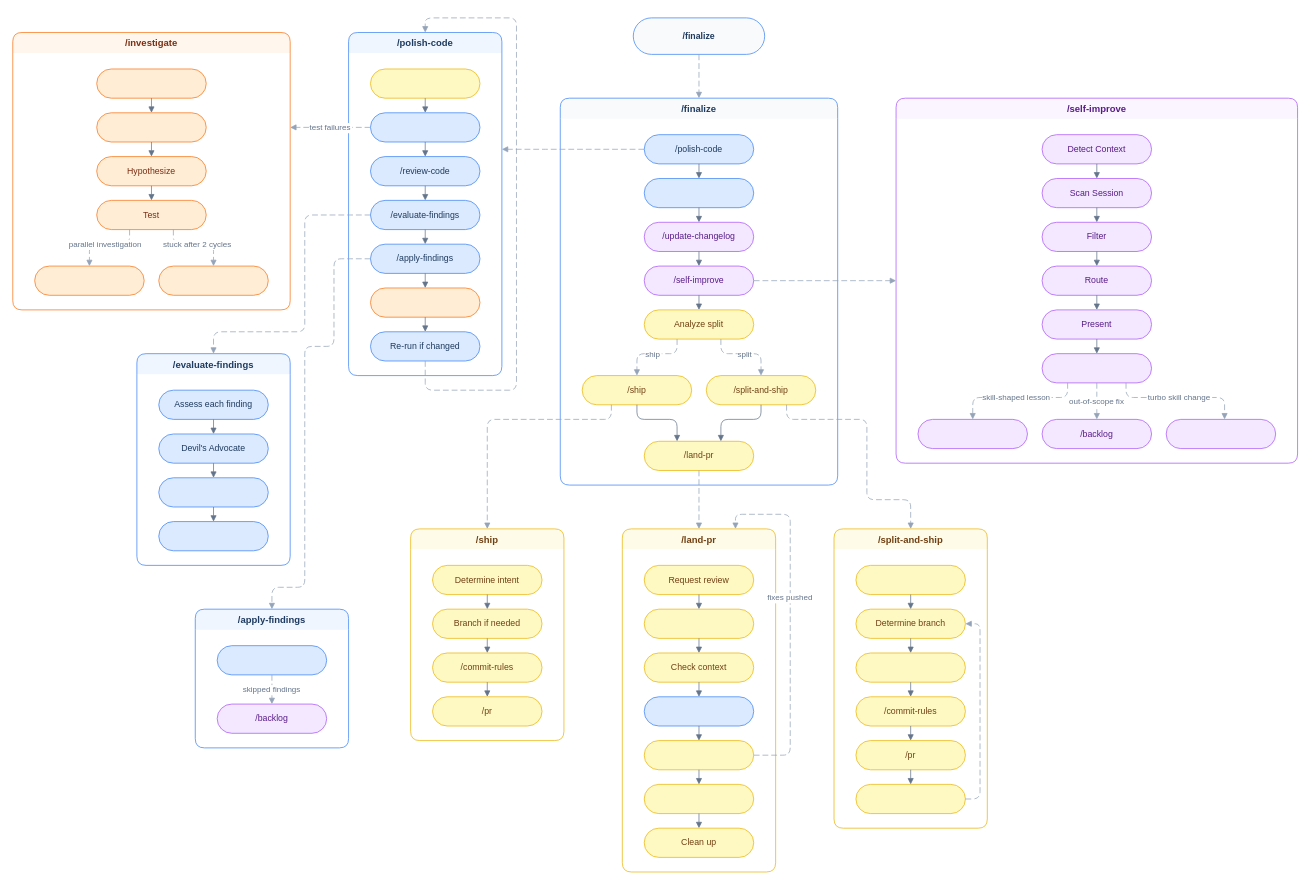
Image size: 1310x885. Some labels were removed from this diagram. Each missing label, with the centre of its shape:
"/consult-codex" goes at (x=89, y=280).
"/consult-oracle" goes at (x=213, y=280).
"/contribute" goes at (x=1220, y=434).
"/resolve-pr-feedback" goes at (x=698, y=711).
"/run-checks" goes at (x=425, y=127).
"/simplify-docs" goes at (x=698, y=193).
"/smoke-test" goes at (x=425, y=302).
"/stage" goes at (x=425, y=83).
"/write-skill" goes at (x=972, y=434).
"Apply fixes" goes at (x=271, y=660).
"Characterize" goes at (x=151, y=83).
"Execute" goes at (x=1096, y=368).
"Format Output" goes at (x=213, y=536).
"Isolate" goes at (x=151, y=127).
"Next group" goes at (x=910, y=799).
"Offer merge" goes at (x=698, y=799).
"Prepare" goes at (x=910, y=580).
"Re-run if fixes pushed" goes at (x=698, y=755).
"Reconciliation" goes at (x=213, y=492).
"Restore and stage" goes at (x=910, y=667).
"Wait for reviews" goes at (x=698, y=623).
